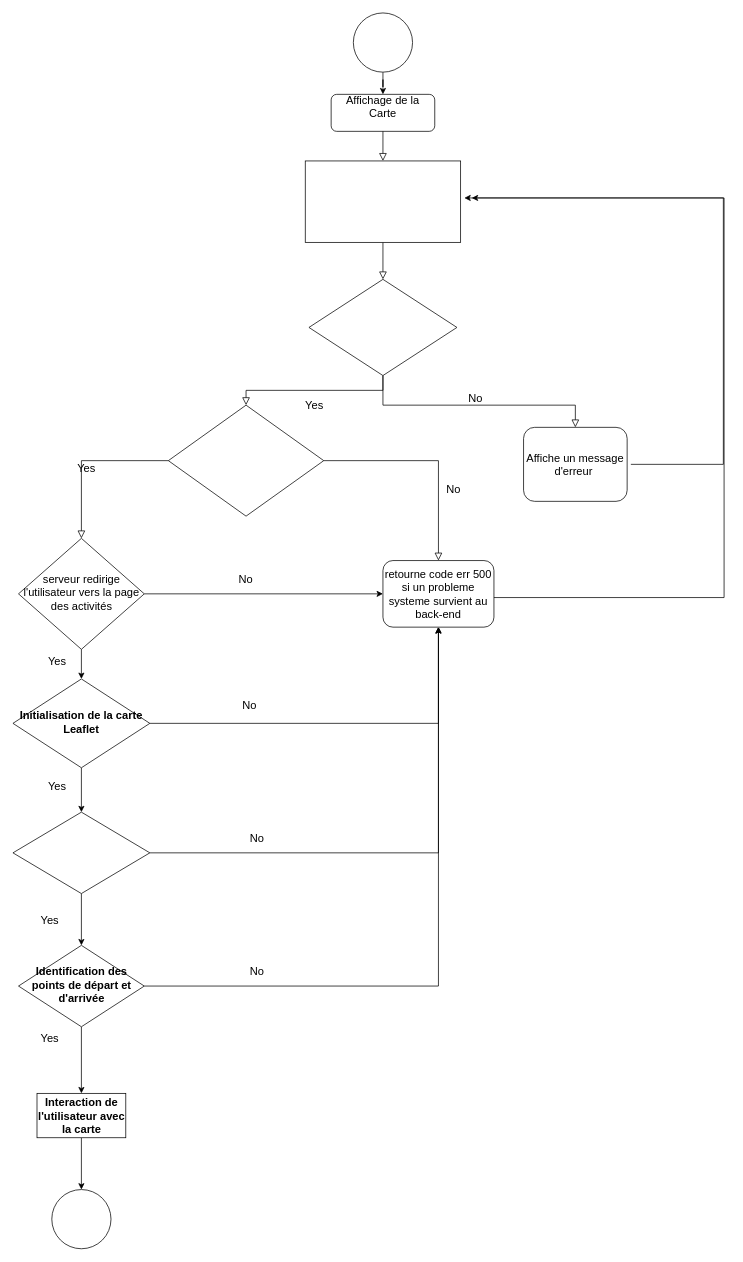
This 743x1262 diagram has some shape labels left out. The centre of each missing label's shape, as x and y in pixels:
Dessin du parcours sur la carte: the point at 81,852
Enregistrement du fichier GPX dans la base de données: the point at 246,460
Soumission de l'activiter par formulaire GPX: the point at 383,201
Validation du fichier GPX: the point at 382,327
